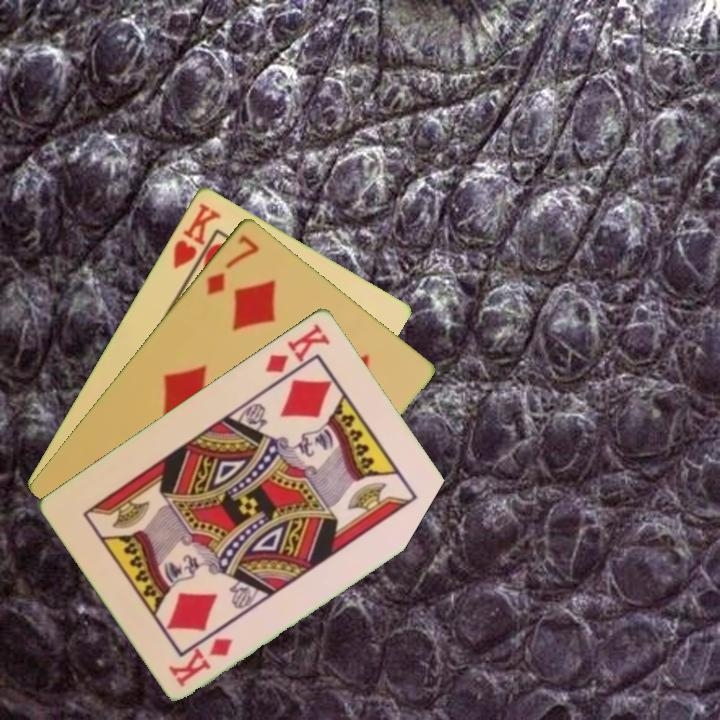7d: (202, 230, 262, 299)
Kd: (261, 319, 333, 376), (166, 633, 236, 689)
Kh: (169, 198, 224, 282)
